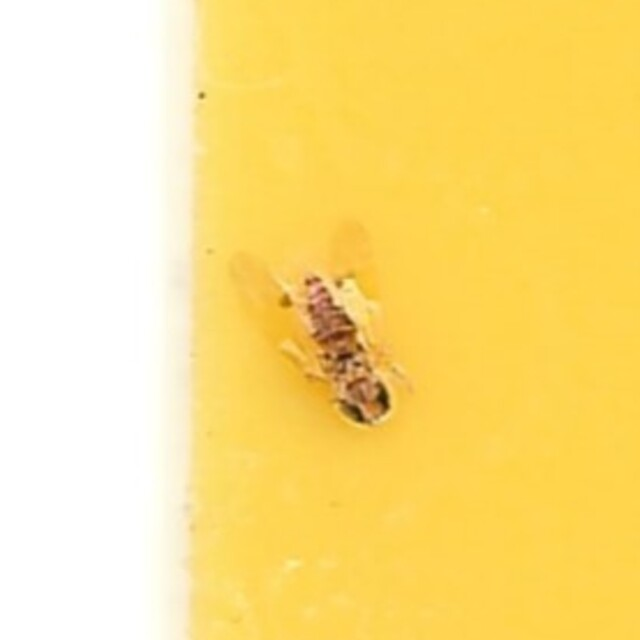Hemiptera: (231, 215, 409, 425)
